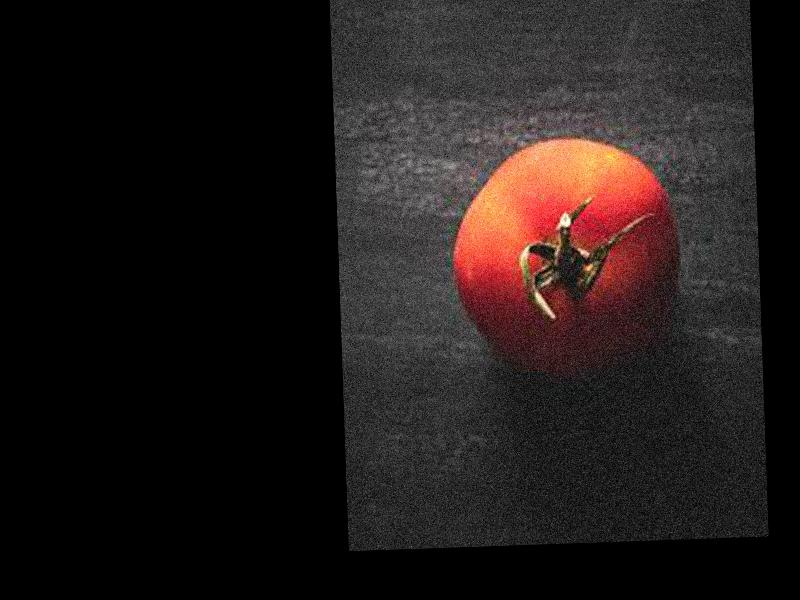Tomato: (449, 133, 680, 376)
